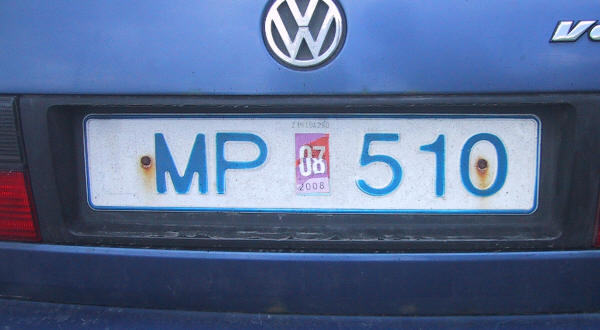license_plate: (83, 114, 540, 215)
